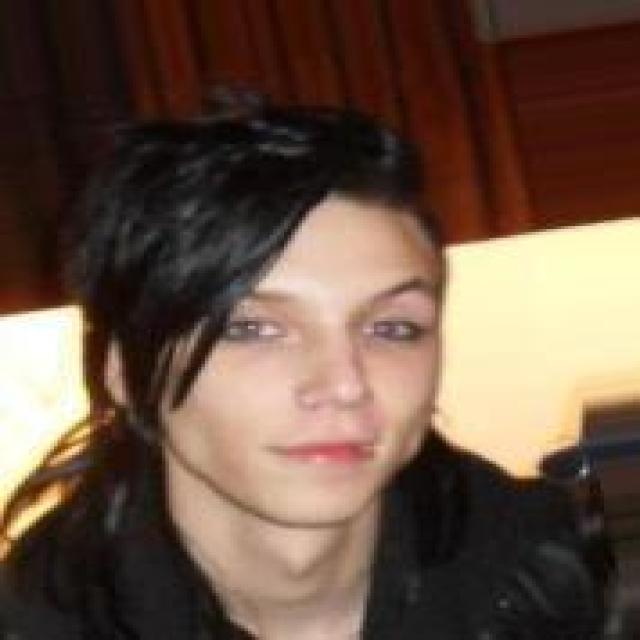bareface: (110, 182, 446, 502)
